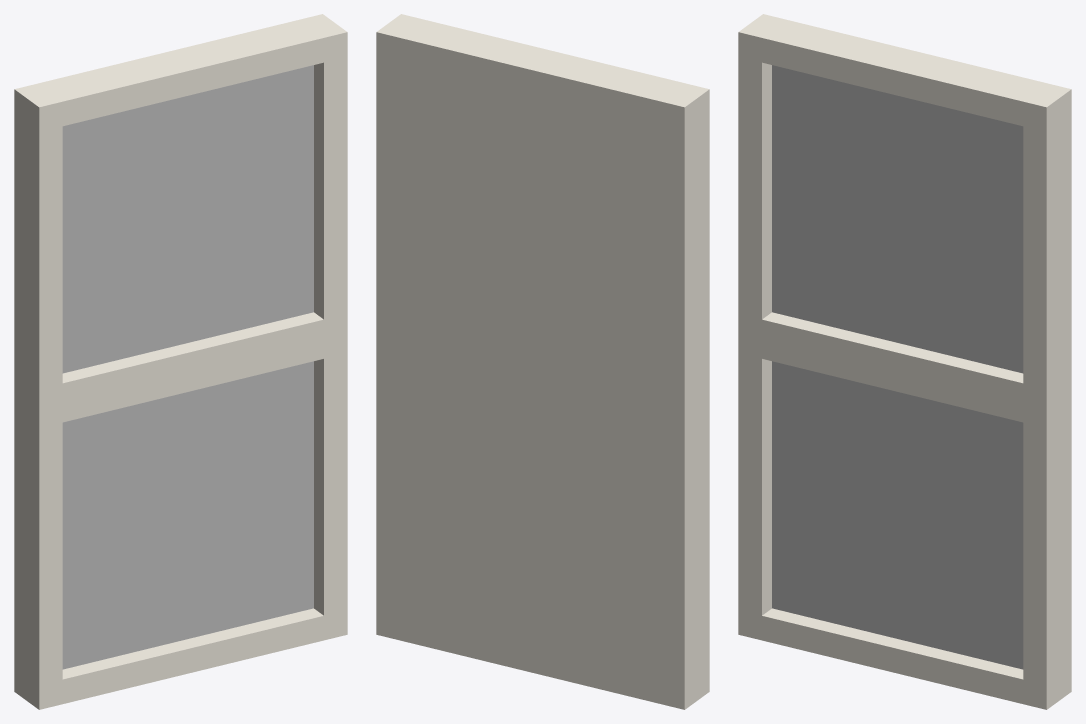
Rendered from window_02.FBX.
The picture shows the model from 3 angles, left to right: view 1: azimuth 30°, elevation 25°; view 2: azimuth 150°, elevation 25°; view 3: azimuth 330°, elevation 25°; orthographic projection.
Visible parts, largest first — view 1: Box012; view 2: Box012; view 3: Box012.
Boxes of the visible parts, <box> form: Box012: <box>14,14,347,709</box>; Box012: <box>376,14,709,709</box>; Box012: <box>738,14,1071,709</box>.
Size of the model in its own units: 66.4 by 124 by 9.25.
